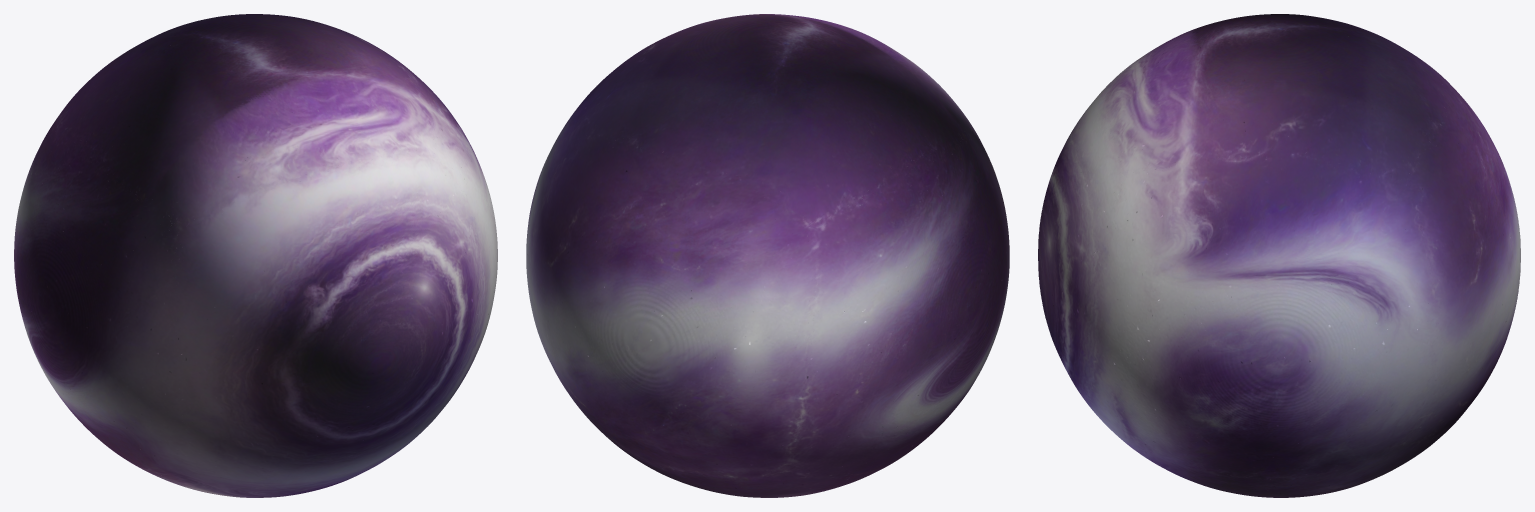
File: puple_planet.glb
3 views of the same model, side by side, from view 1: azimuth 30°, elevation 25°; view 2: azimuth 150°, elevation 25°; view 3: azimuth 270°, elevation 25° (orthographic).
Size of the model in its own units: 2 by 2 by 2.
Materials: 1 (1 with a texture image).
